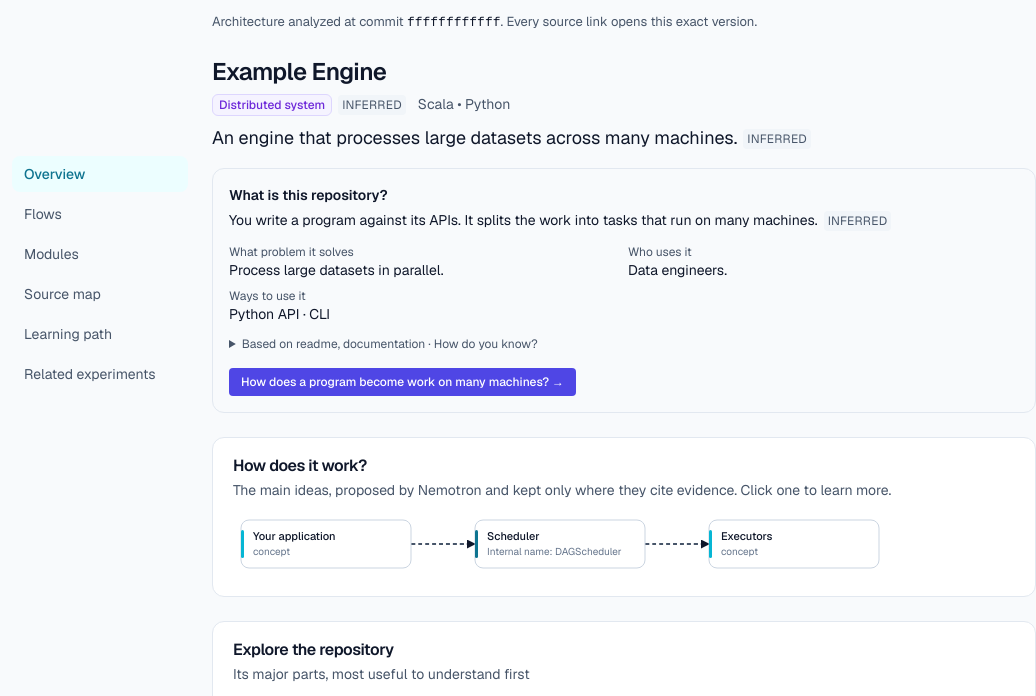
Test case: experiments › are listed together under Related experiments
The width and height of the screenshot is (1036, 696).
Step 1. Click the button with test id "perspective-experiments" → (100, 374), box [12,356,188,392]
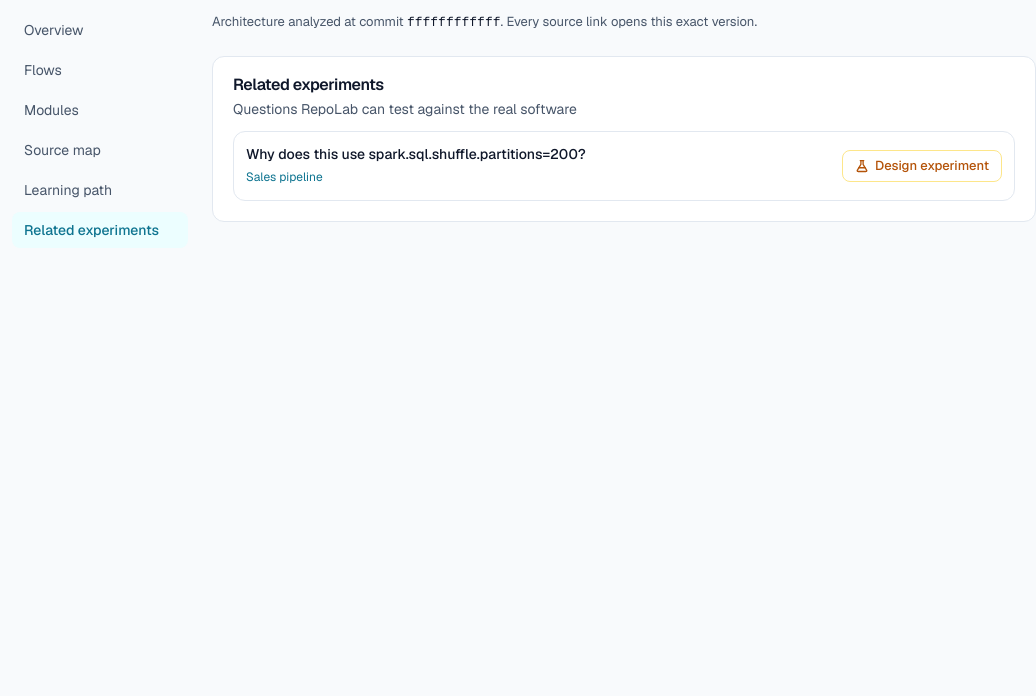
Expected: the list with test id "related-experiments" shows "spark.sql.shuffle.partitions=200", [246,145,586,163]
